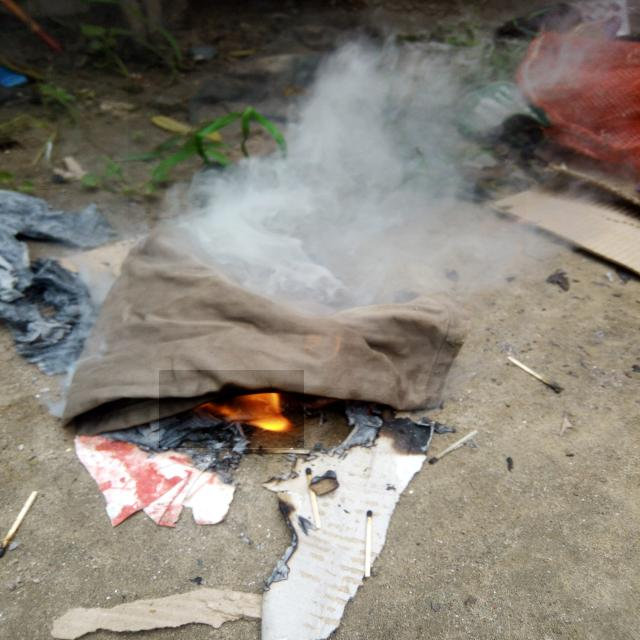Fire: (159, 370, 304, 448)
Smoke: (128, 49, 526, 328)
